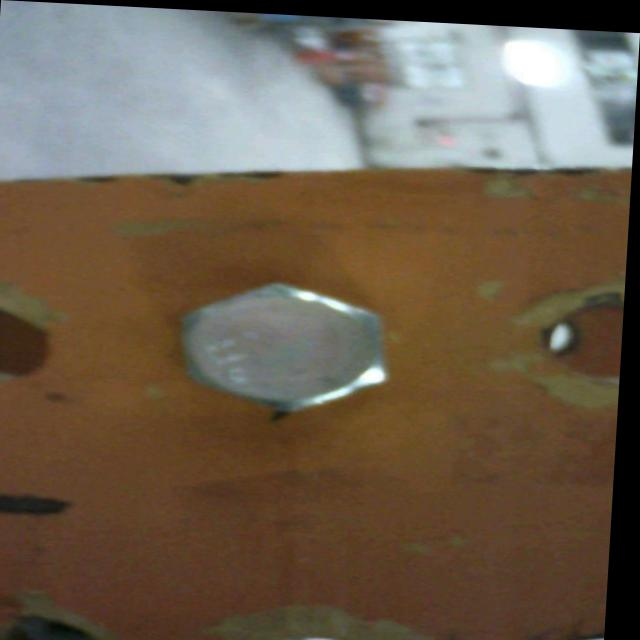Missing bolt: (557, 288, 629, 381), (1, 303, 69, 386), (5, 607, 109, 640), (276, 626, 396, 640), (545, 626, 612, 640)
Regular bolt: (182, 269, 395, 411)
